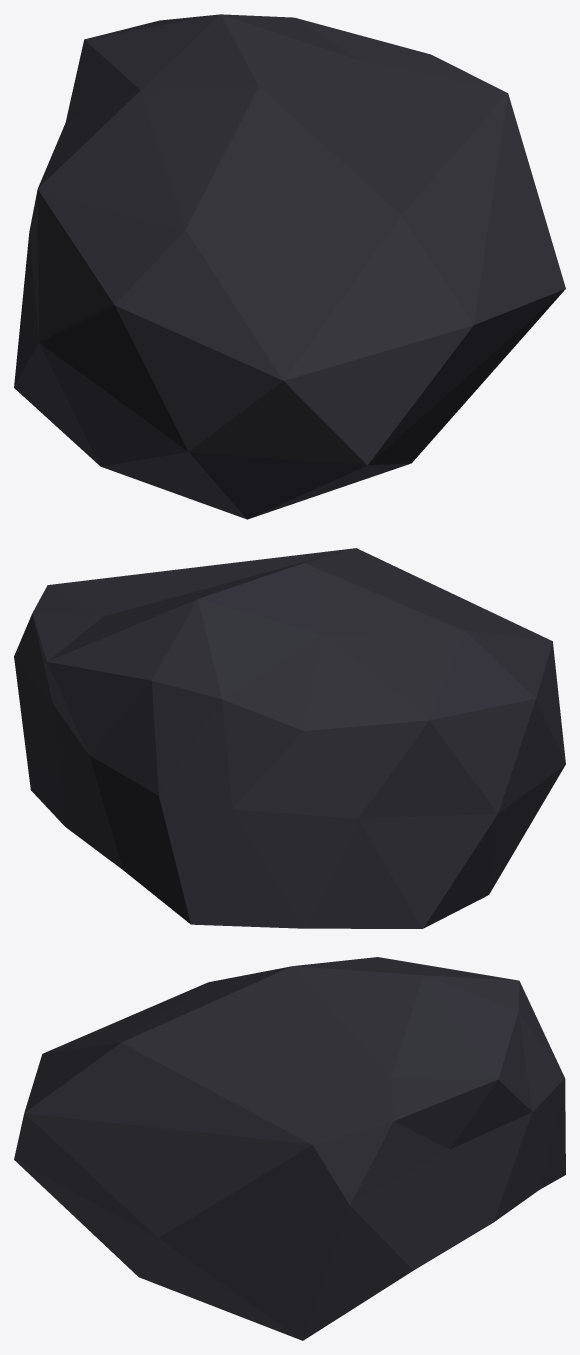
Rendered from Stone_01.fbx.
The picture shows the model from 3 angles, top to bottom: view 1: azimuth 30°, elevation 25°; view 2: azimuth 150°, elevation 25°; view 3: azimuth 270°, elevation 25°; orthographic projection. The views are drawn at different scales.
Parts seen in each view (by area): view 1: Stone_01; view 2: Stone_01; view 3: Stone_01.
Part boxes in pixels (x1,y1,x2,y2): Stone_01: (14, 14, 565, 519); Stone_01: (14, 548, 565, 928); Stone_01: (14, 957, 565, 1340).
Bounding box in the file's own units: 12.51 × 8.44 × 14.15.
